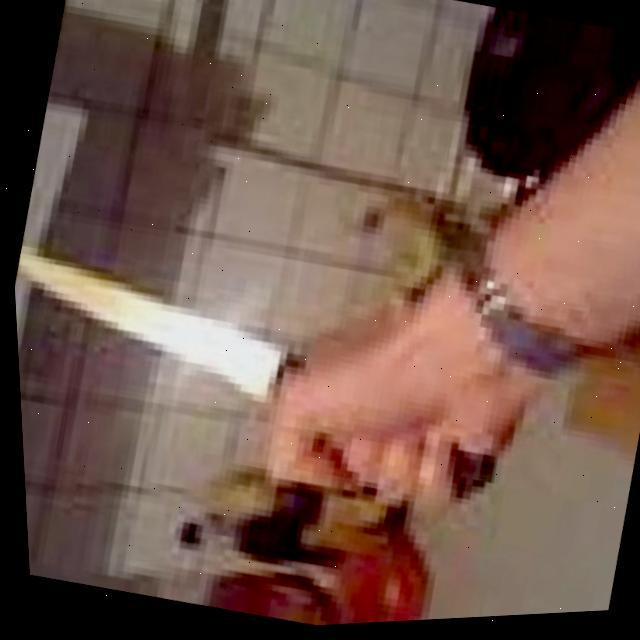knife: (10, 226, 525, 523)
